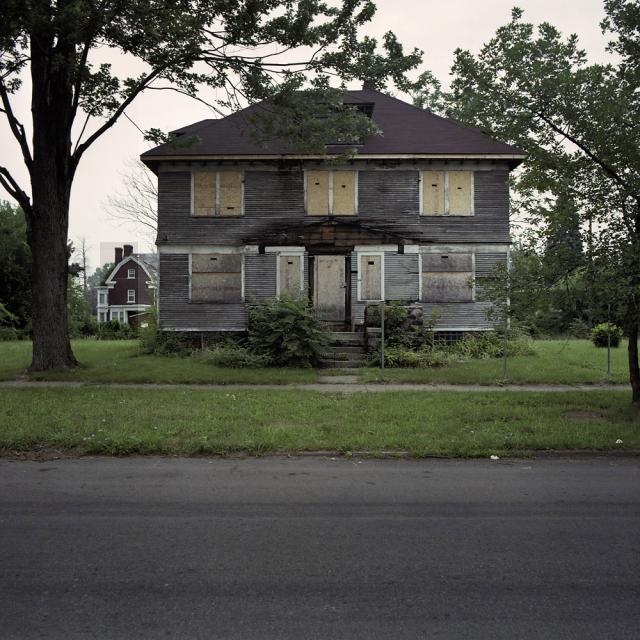House: (138, 76, 526, 363), (100, 242, 154, 332)
